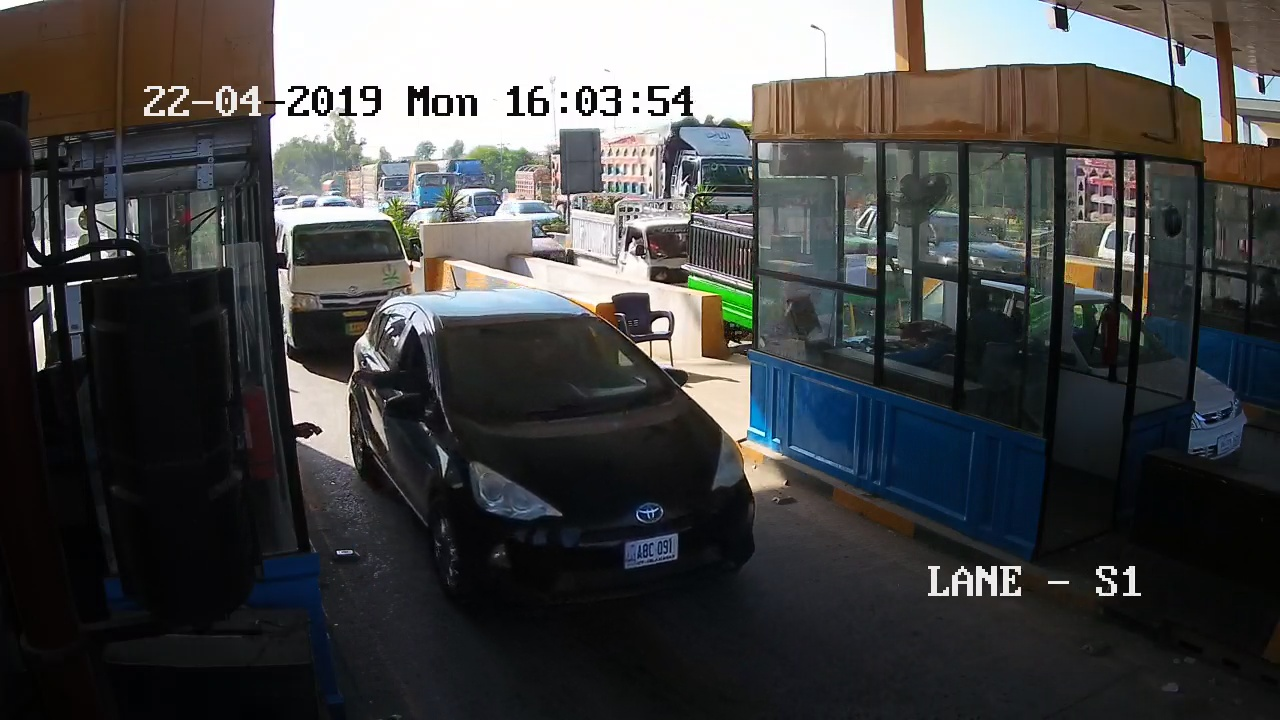Number Plate (Car): (621, 536, 678, 568)
